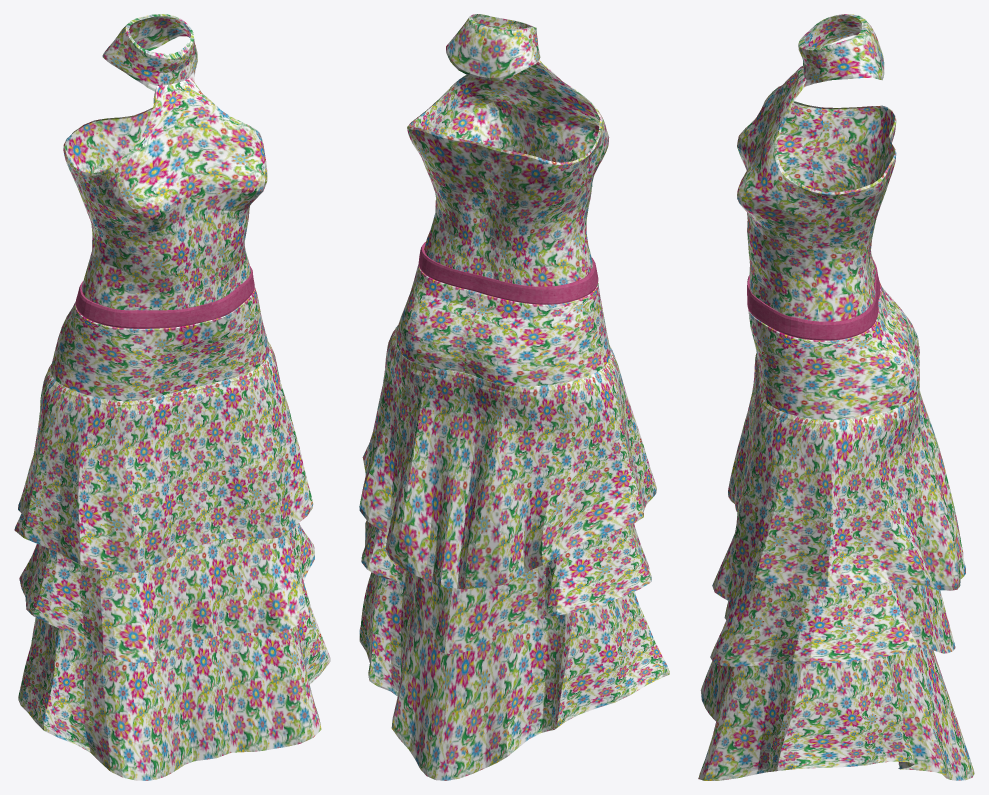
File: garment.glb
3 renders of one model, left to right at view 1: azimuth 30°, elevation 25°; view 2: azimuth 150°, elevation 25°; view 3: azimuth 270°, elevation 25°, orthographic. The views are drawn at different scales.
Parts seen in each view (by area): view 1: garment; view 2: garment; view 3: garment.
Boxes of the visible parts, x1=… form: garment: x1=14, y1=14, x2=330, y2=780; garment: x1=359, y1=14, x2=669, y2=780; garment: x1=698, y1=14, x2=974, y2=780.
Bounding box in the file's own units: 5.28 × 12.55 × 4.21.
Materials: 1 (1 with a texture image).
